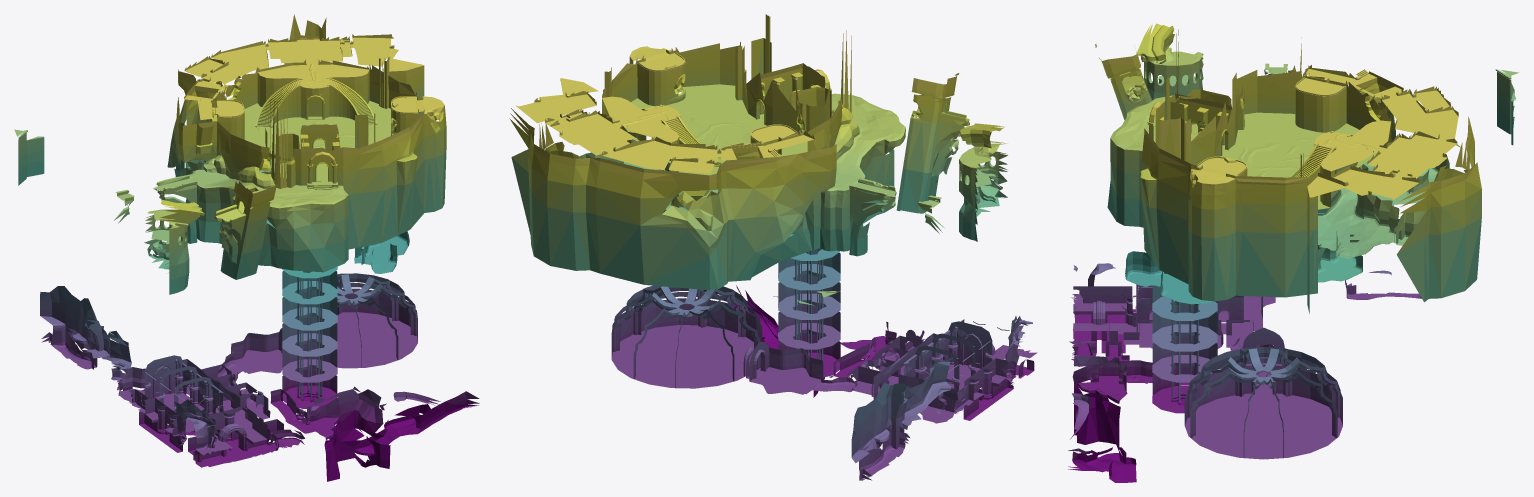
The model's file is 720_SZ_LIB.glb.
3 views of the same model, side by side, from view 1: azimuth 30°, elevation 25°; view 2: azimuth 150°, elevation 25°; view 3: azimuth 270°, elevation 25° (orthographic). The views are drawn at different scales.
Visible parts, largest first — view 1: walls, floors; view 2: walls, floors; view 3: walls, floors.
Part boxes in pixels (<box>): walls: <box>18,14,479,481</box>; floors: <box>14,37,474,467</box>; walls: <box>509,14,1034,480</box>; floors: <box>516,46,1037,480</box>; walls: <box>1068,29,1514,478</box>; floors: <box>1068,23,1518,482</box>.
Size of the model in its own units: 141 by 144 by 138.
